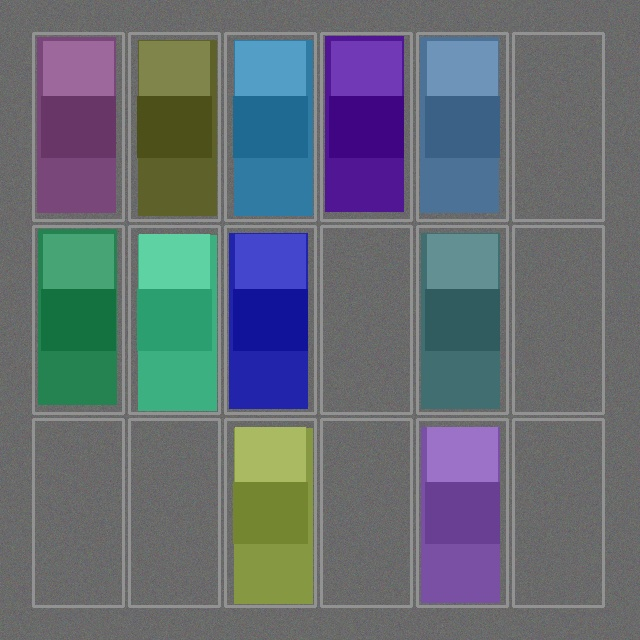space-empty: (515, 35, 601, 218), (323, 228, 409, 411), (515, 228, 601, 411), (35, 421, 121, 604), (131, 421, 217, 604), (323, 421, 409, 604), (515, 421, 601, 604)
space-occupied: (35, 35, 121, 218), (131, 35, 217, 218), (227, 35, 313, 218), (323, 35, 409, 218), (419, 35, 505, 218), (35, 228, 121, 411), (131, 228, 217, 411), (227, 228, 313, 411), (419, 228, 505, 411), (227, 421, 313, 604), (419, 421, 505, 604)
